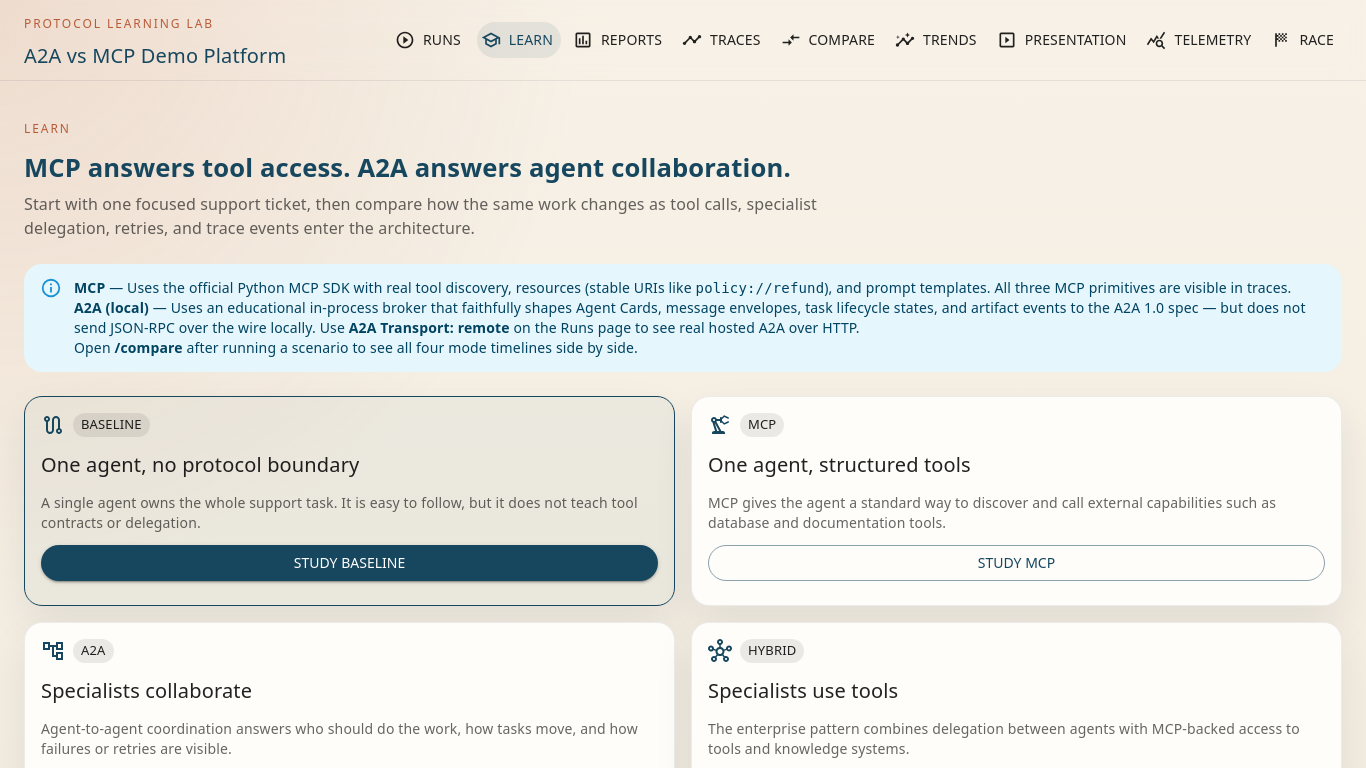
Test: primary React app routes › teaches the protocol difference in the learning workspace
Expected: the heading "MCP answers tool access. A2A answers agent collaboration." is shown, [24,150,791,185]
Click the button "Study MCP" at [1016, 563], box [708,545,1325,581]
(page scrolled)
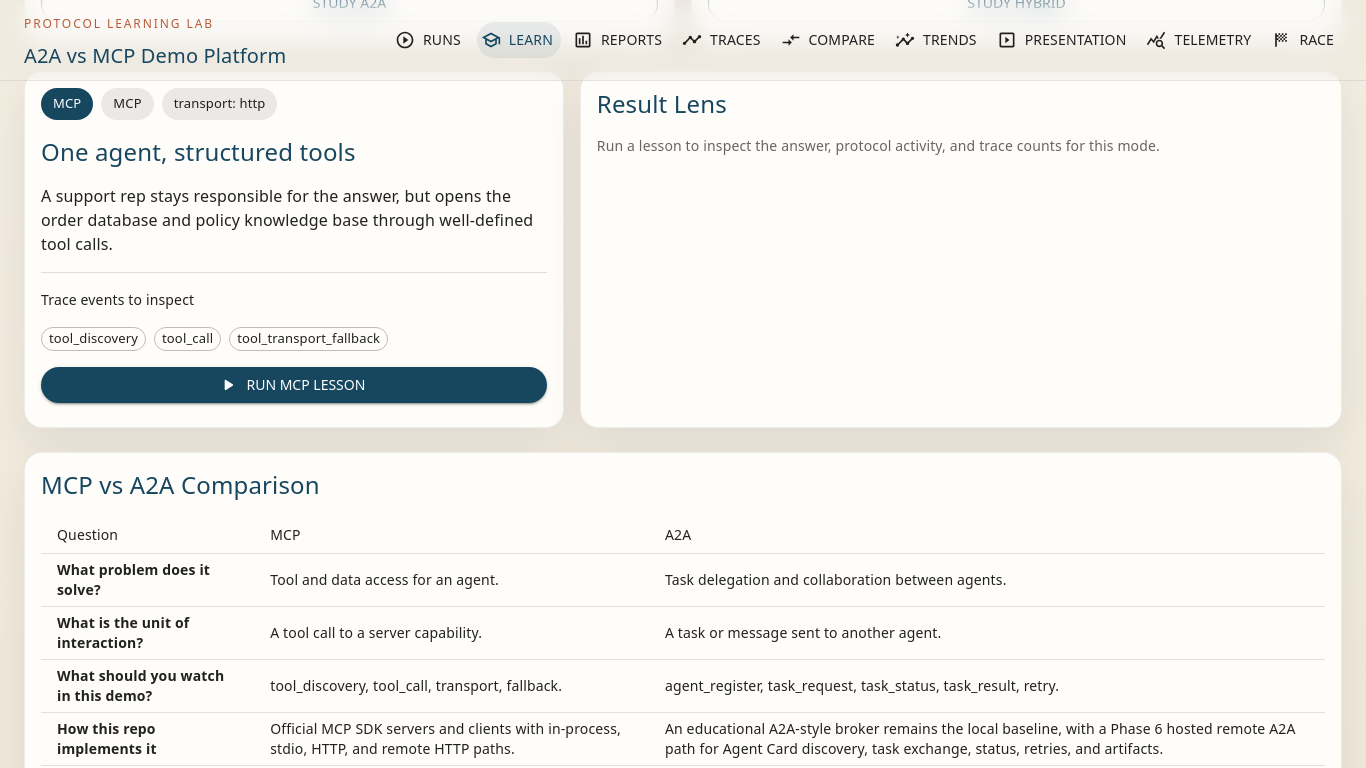
Click the button "Run MCP lesson" at [294, 385], box [41,367,547,403]
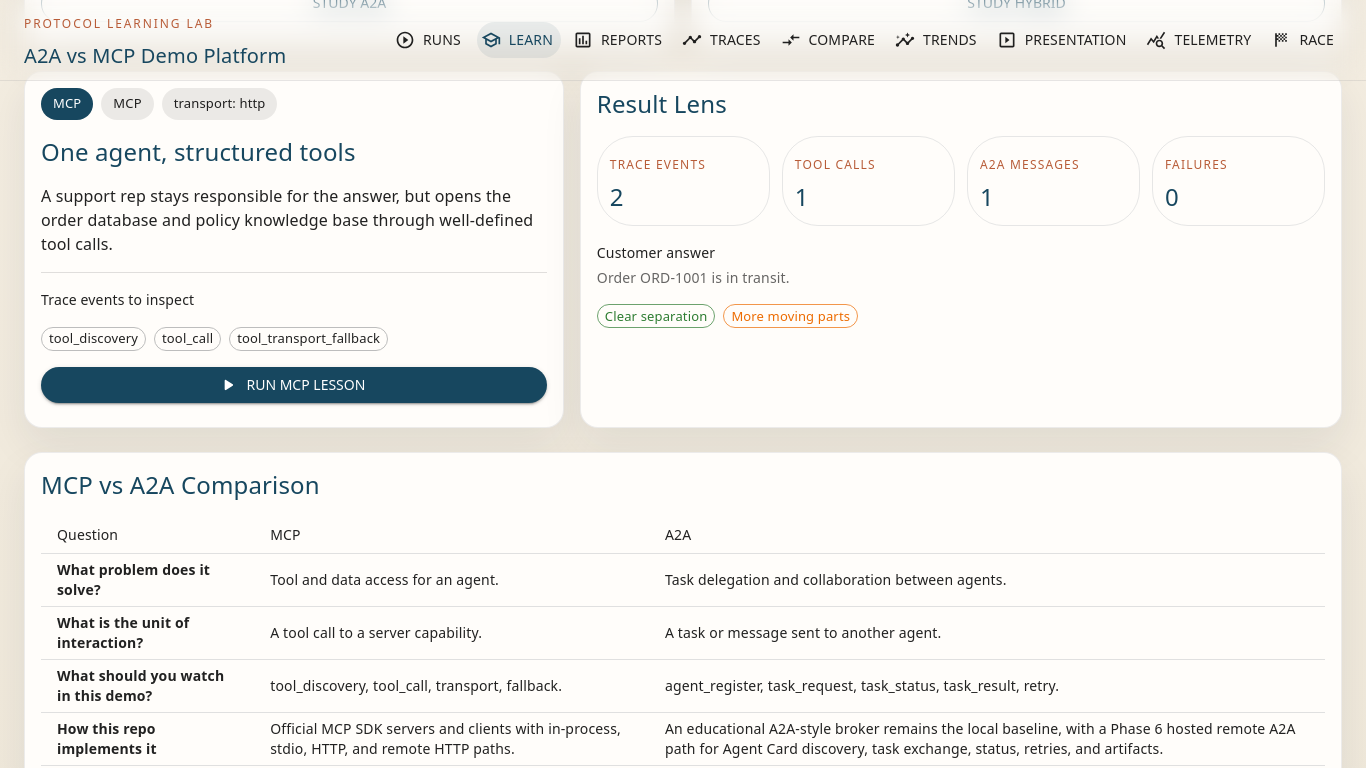
Expected: the text "Order ORD-1001 is in transit." is shown, [597,268,790,287]
